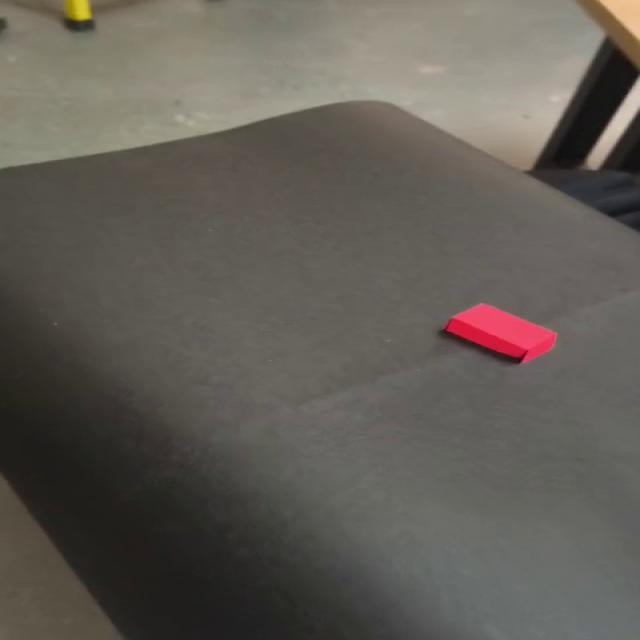red block: (442, 302, 558, 364)
